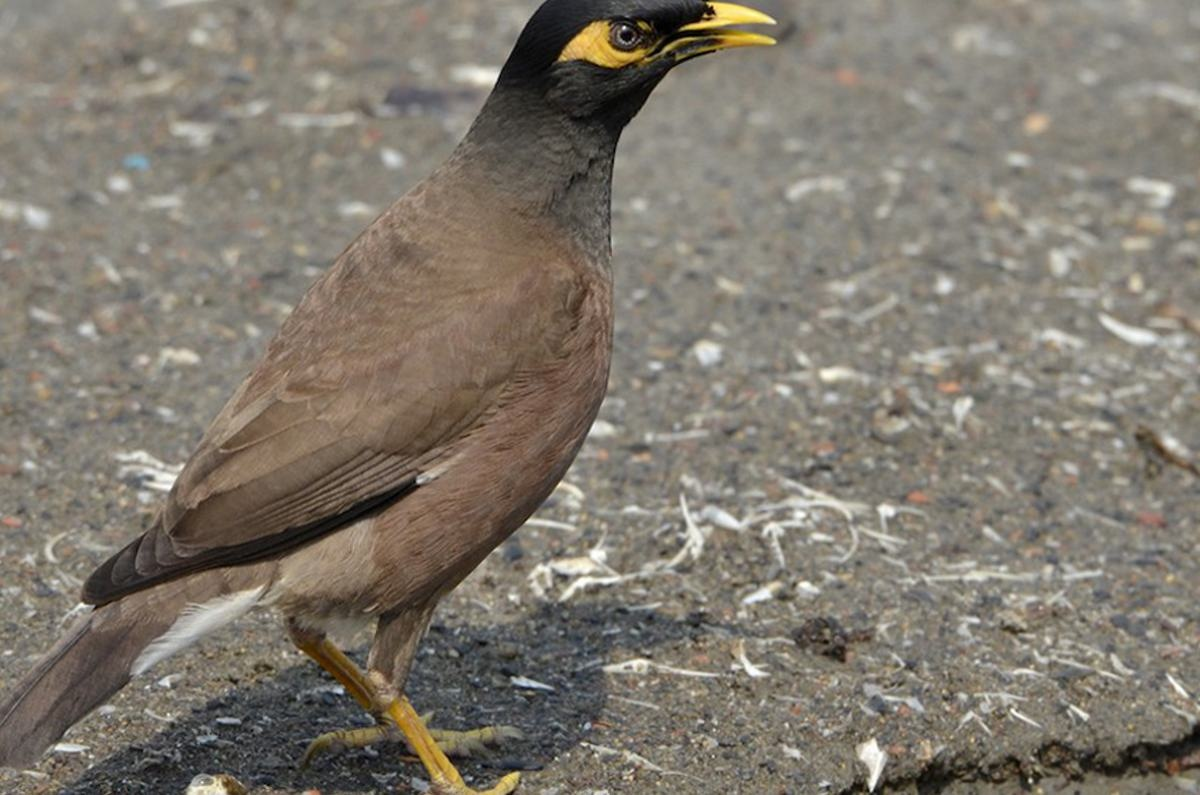myna: (148, 7, 803, 665)
